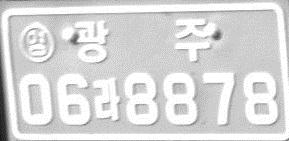0: (18, 72, 53, 127)
6: (55, 72, 91, 126)
7: (201, 71, 237, 127)
8: (242, 71, 279, 127), (162, 71, 197, 126), (123, 72, 158, 124)
광주_D: (73, 18, 210, 65)
라: (92, 77, 120, 121)
영: (17, 21, 54, 64)
